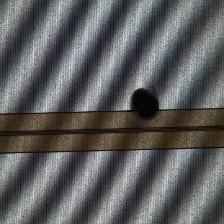PARTICLE: (128, 87, 164, 123)
